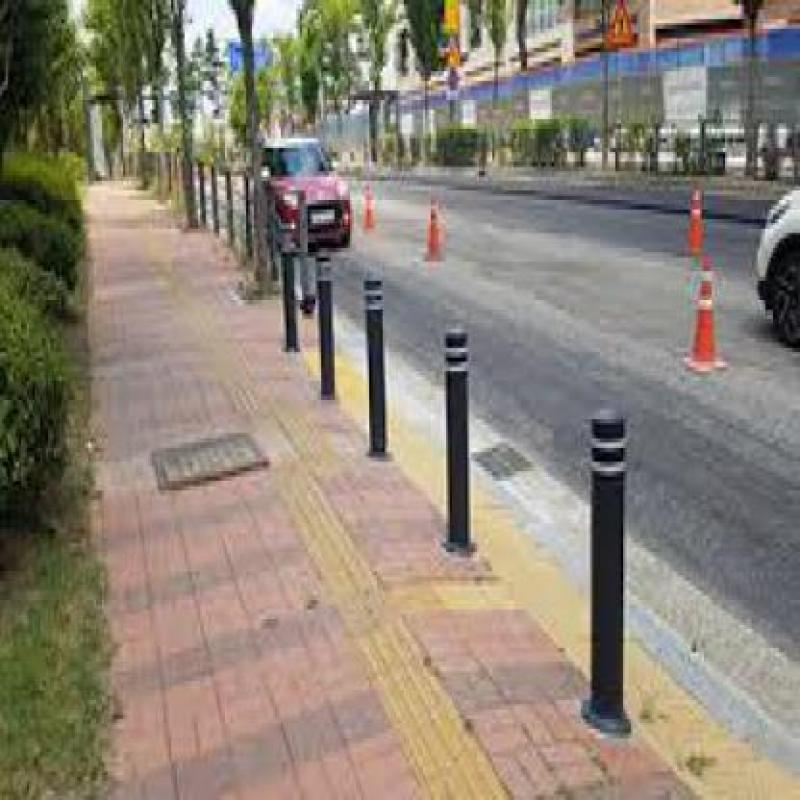bolard: (573, 400, 635, 714), (423, 296, 474, 544), (356, 287, 396, 448), (279, 229, 310, 377), (314, 235, 340, 406)
